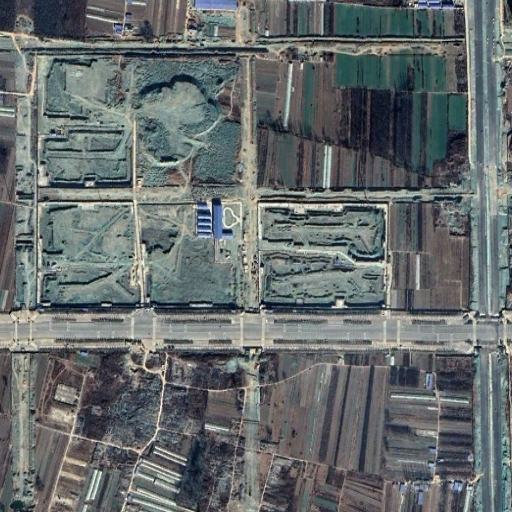cw: (33, 48, 243, 307), (255, 203, 387, 307)
